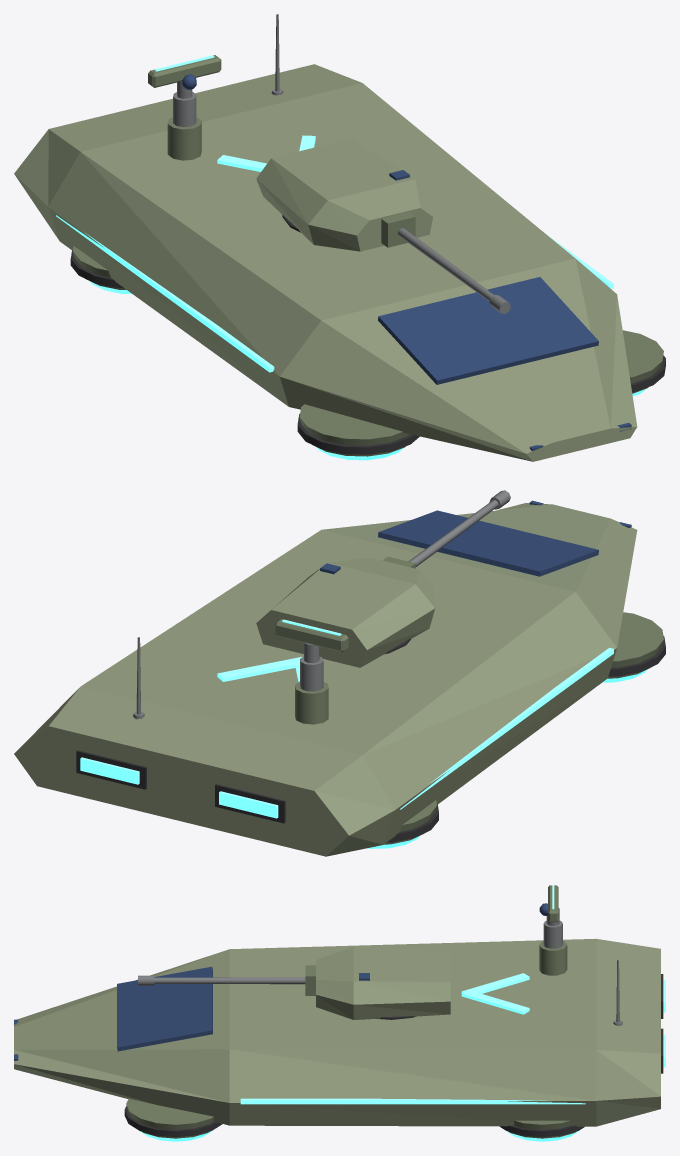
Rendered from recon_blue.glb.
3 views of the same model, one above another, from view 1: azimuth 30°, elevation 25°; view 2: azimuth 150°, elevation 25°; view 3: azimuth 270°, elevation 25° (orthographic). The views are drawn at different scales.
Visible parts, largest first — view 1: body, turret, gun; view 2: body, turret, gun; view 3: body, turret, gun.
Part boxes in pixels (box(x1,y1,x2,y2)): body: box(14, 14, 665, 461); turret: box(256, 138, 435, 251); gun: box(381, 212, 510, 313); body: box(14, 500, 665, 856); turret: box(256, 557, 435, 667); gun: box(382, 490, 510, 568); body: box(14, 885, 665, 1141); turret: box(316, 946, 450, 1019); gun: box(138, 965, 315, 995).
Size of the model in its own units: 3.05 by 1.59 by 6.05.
